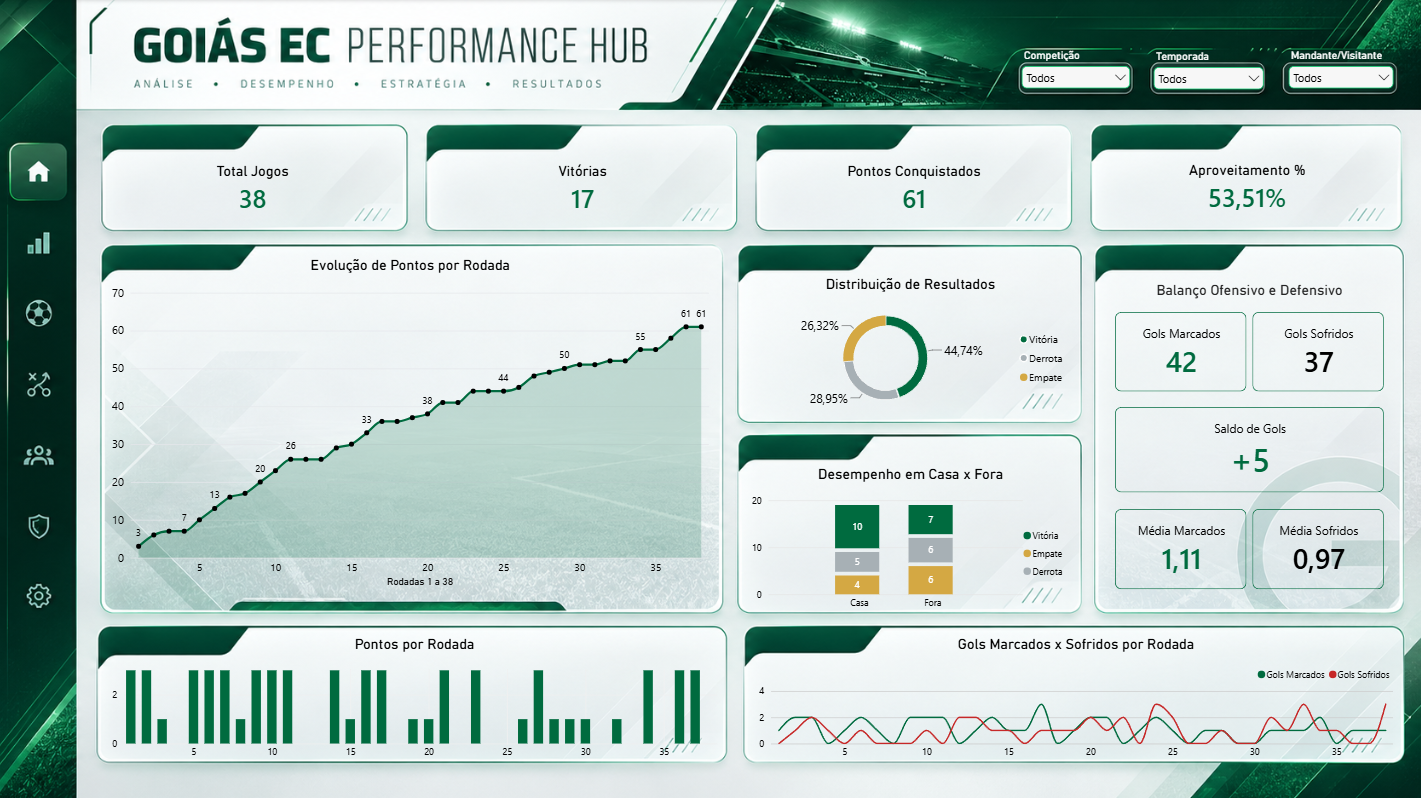

This screenshot's page, from the dashboard's own definition file:
{"tool":"powerbi","page":{"name":"Visão Geral","canvas":[1920,1080],"ordinal":0},"visuals":[{"type":"cardVisual","fields":{"Data":["Medidas.Total Jogos"]},"box":[139.2,198.3,411.8,116.3],"z":0},{"type":"cardVisual","fields":{"Data":["Medidas.Pontos Conquistados"]},"box":[1023.9,198.3,423.3,116.3],"z":1000},{"type":"cardVisual","fields":{"Data":["Medidas.Vitorias"]},"box":[579.6,198.3,419.5,116.3],"z":2000},{"type":"cardVisual","fields":{"Data":["Medidas.Aproveitamento %"]},"box":[1472.3,196.1,423.3,116.3],"z":3000},{"type":"lineChart","title":"Evolução de Pontos por Rodada","fields":{"Category":["fato_partida_clube.rodada"],"Y":["Medidas.Pontos Acumulados"]},"box":[138.6,332.9,835.7,475.7],"z":4000},{"type":"donutChart","title":"Distribuição de Resultados","fields":{"Category":["fato_partida_clube.resultado"],"Y":["Medidas.Total Jogos"]},"box":[1000.5,358.2,459.2,214.1],"z":5000},{"type":"columnChart","title":"Desempenho em Casa x Fora","fields":{"Category":["fato_partida_clube.mando"],"Series":["fato_partida_clube.resultado"],"Y":["Medidas.Total Jogos"]},"box":[1000.7,614.3,459.3,228.6],"z":6000},{"type":"cardVisual","fields":{"Data":["Medidas.Gols Marcados","Medidas.Gols Sofridos"]},"box":[1505,421.2,362.5,107.5],"z":7000},{"type":"cardVisual","title":"Saldo de Gols","fields":{"Data":["Medidas.Saldo de Gols"]},"box":[1505,550,362.5,115],"z":8000},{"type":"cardVisual","fields":{"Data":["Medidas.Media Gols Marcados","Medidas.Media Gols Sofridos"]},"box":[1505,686.2,362.5,108.8],"z":9000},{"type":"textbox","box":[1505.5,381.1,362.2,40.4],"z":10000},{"type":"clusteredColumnChart","title":"Pontos por Rodada","fields":{"Category":["fato_partida_clube.rodada"],"Y":["Sum(fato_partida_clube.pontos)"]},"box":[138.7,843,847,200.6],"z":11000},{"type":"lineChart","title":"Gols Marcados x Sofridos por Rodada","fields":{"Category":["fato_partida_clube.rodada"],"Y":["Medidas.Gols Marcados","Medidas.Gols Sofridos"]},"box":[1010,843,886.1,200.6],"z":12000},{"type":"slicer","fields":{"Values":["fato_partida_clube.Competicao Exibicao"]},"box":[1374.9,67.3,156.2,103.7],"z":13000},{"type":"slicer","fields":{"Values":["fato_partida_clube.temporada"]},"box":[1552.7,68.2,158.2,69.1],"z":14000},{"type":"slicer","fields":{"Values":["fato_partida_clube.mando"]},"box":[1734.3,67.9,151.4,66.4],"z":15000},{"type":"actionButton","title":"BTN_Performance_Coletiva","box":[25.6,303,59.3,55.2],"z":16000},{"type":"actionButton","box":[25.6,401.3,59.3,48.5],"z":17000},{"type":"actionButton","box":[25.7,499.3,59.4,51.4],"z":18000},{"type":"actionButton","box":[25.6,588.5,59.3,51.2],"z":18001}]}

Visuals, with their boxes on the page's 1920x1080 design canvas (x1, y1, x2, y2). These are canvas units, not pixel positions in the 1421x798 screenshot, which may show the page scaled, cropped or inside an application window:
cardVisual - Medidas.Total Jogos: (139, 198, 551, 315)
cardVisual - Medidas.Pontos Conquistados: (1024, 198, 1447, 315)
cardVisual - Medidas.Vitorias: (580, 198, 999, 315)
cardVisual - Medidas.Aproveitamento %: (1472, 196, 1896, 312)
"Evolução de Pontos por Rodada" lineChart: (139, 333, 974, 809)
"Distribuição de Resultados" donutChart: (1000, 358, 1460, 572)
"Desempenho em Casa x Fora" columnChart: (1001, 614, 1460, 843)
cardVisual - Medidas.Gols Marcados x Medidas.Gols Sofridos: (1505, 421, 1868, 529)
"Saldo de Gols" cardVisual: (1505, 550, 1868, 665)
cardVisual - Medidas.Media Gols Marcados x Medidas.Media Gols Sofridos: (1505, 686, 1868, 795)
textbox: (1506, 381, 1868, 422)
"Pontos por Rodada" clusteredColumnChart: (139, 843, 986, 1044)
"Gols Marcados x Sofridos por Rodada" lineChart: (1010, 843, 1896, 1044)
slicer - fato_partida_clube.Competicao Exibicao: (1375, 67, 1531, 171)
slicer - fato_partida_clube.temporada: (1553, 68, 1711, 137)
slicer - fato_partida_clube.mando: (1734, 68, 1886, 134)
"BTN_Performance_Coletiva" actionButton: (26, 303, 85, 358)
actionButton: (26, 401, 85, 450)
actionButton: (26, 499, 85, 551)
actionButton: (26, 588, 85, 640)
